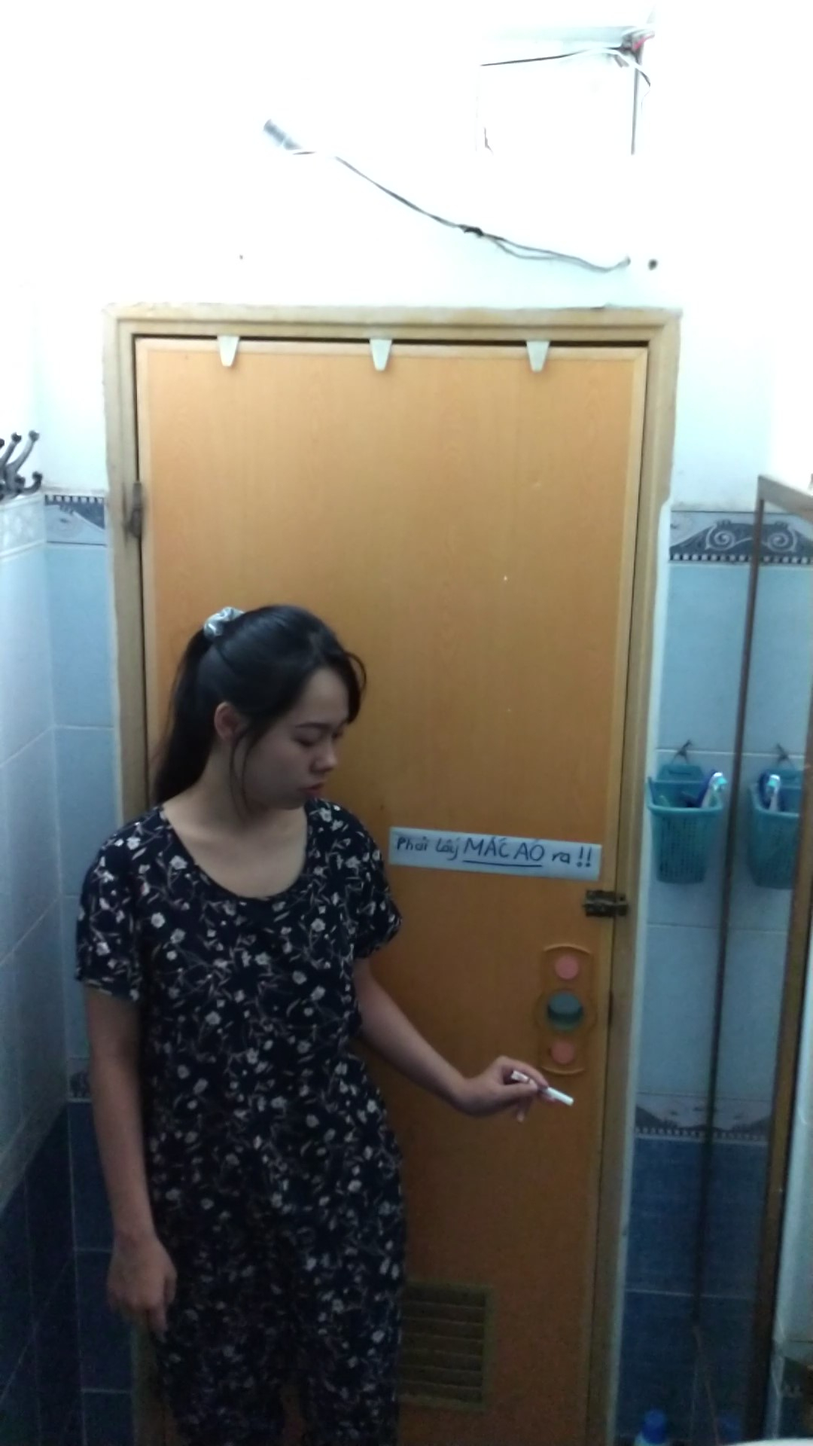cigarette: (544, 1078, 577, 1113)
person: (52, 573, 550, 1446)
